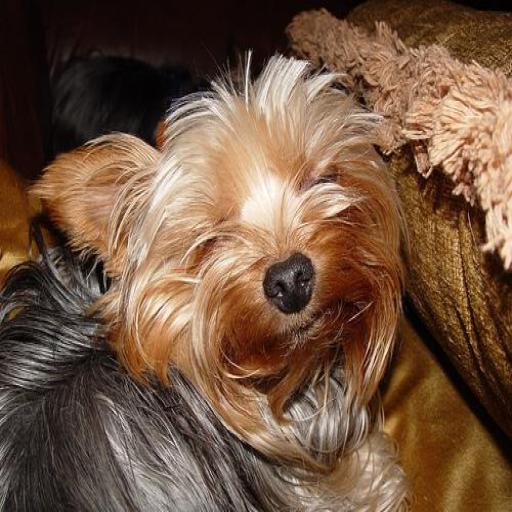dog_face: (63, 105, 378, 380)
